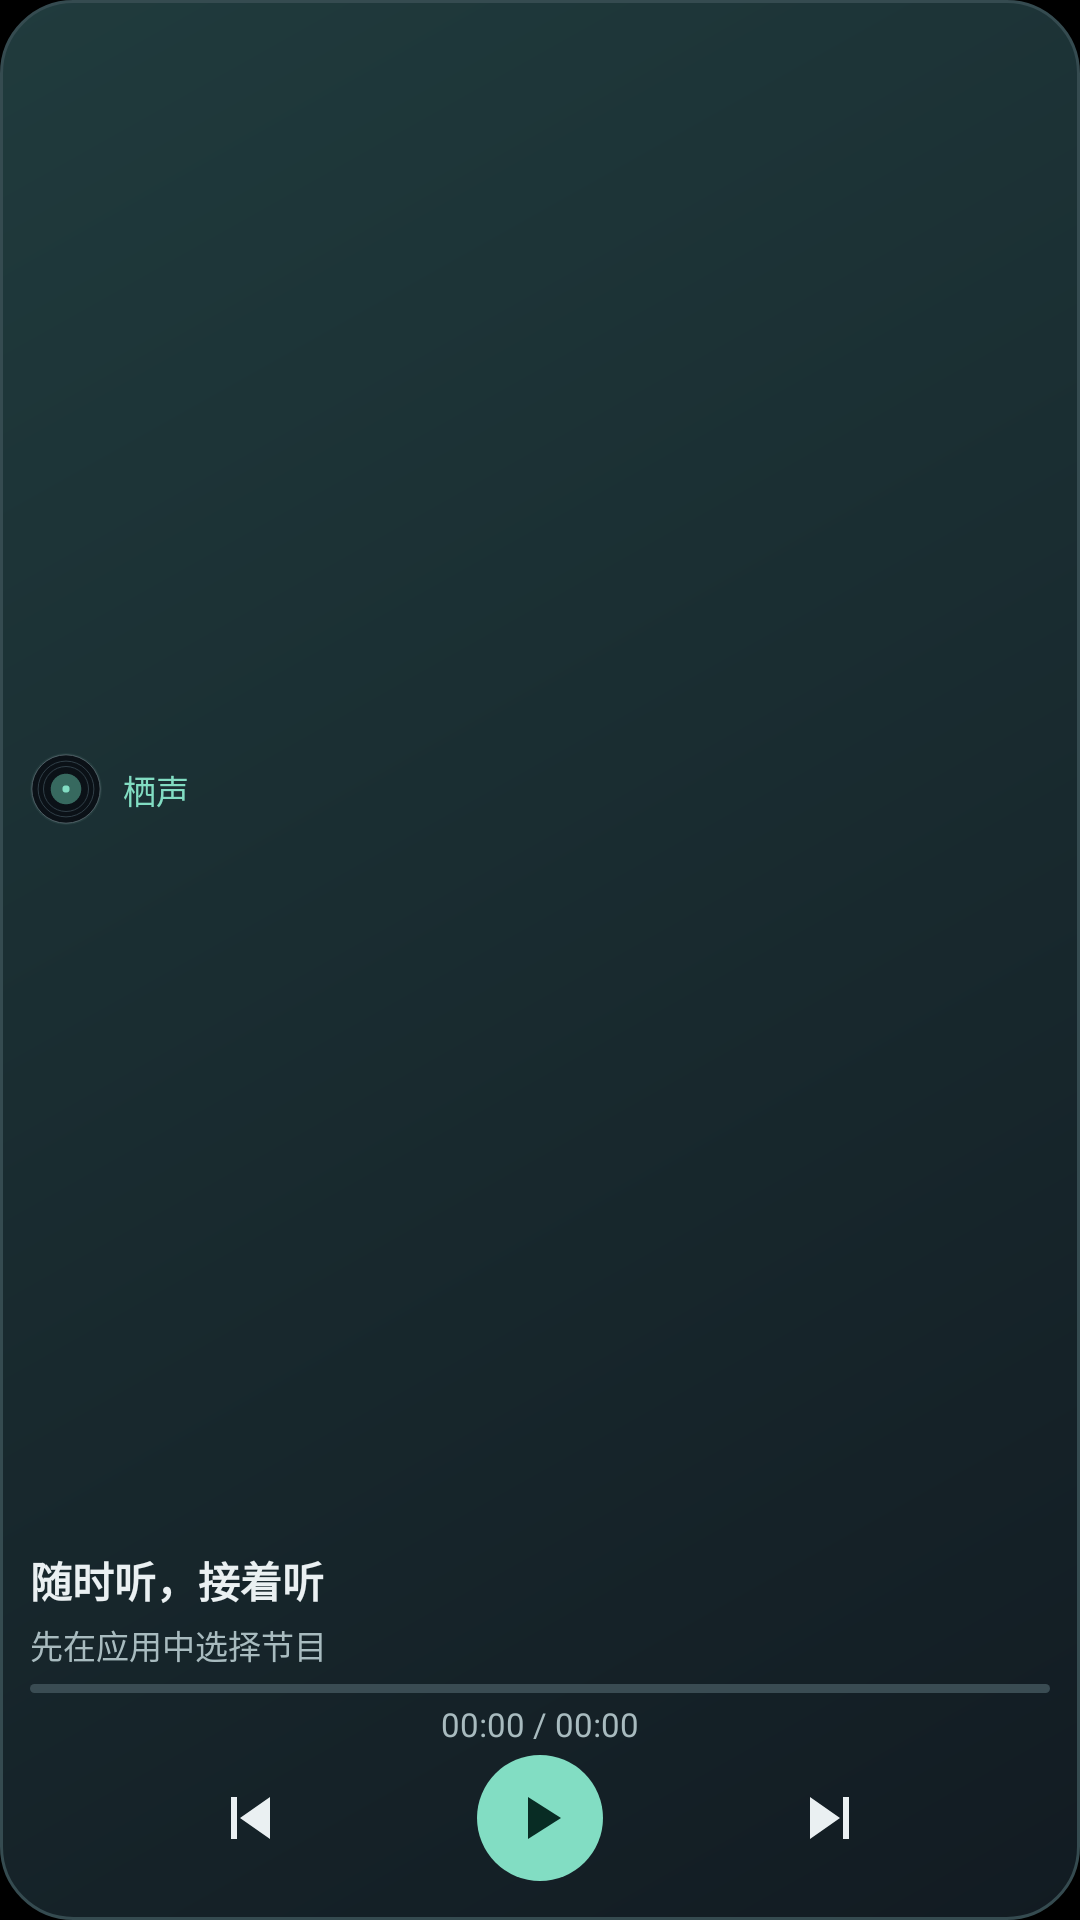

Icons on this 1080w x 1920h Android screen, each with its box as box(x1, y1, x2, y2):
上一条: box(231, 1797, 270, 1839)
下一条: box(810, 1797, 849, 1839)
播放: box(477, 1755, 603, 1881)
节目封面: box(31, 754, 101, 824)
